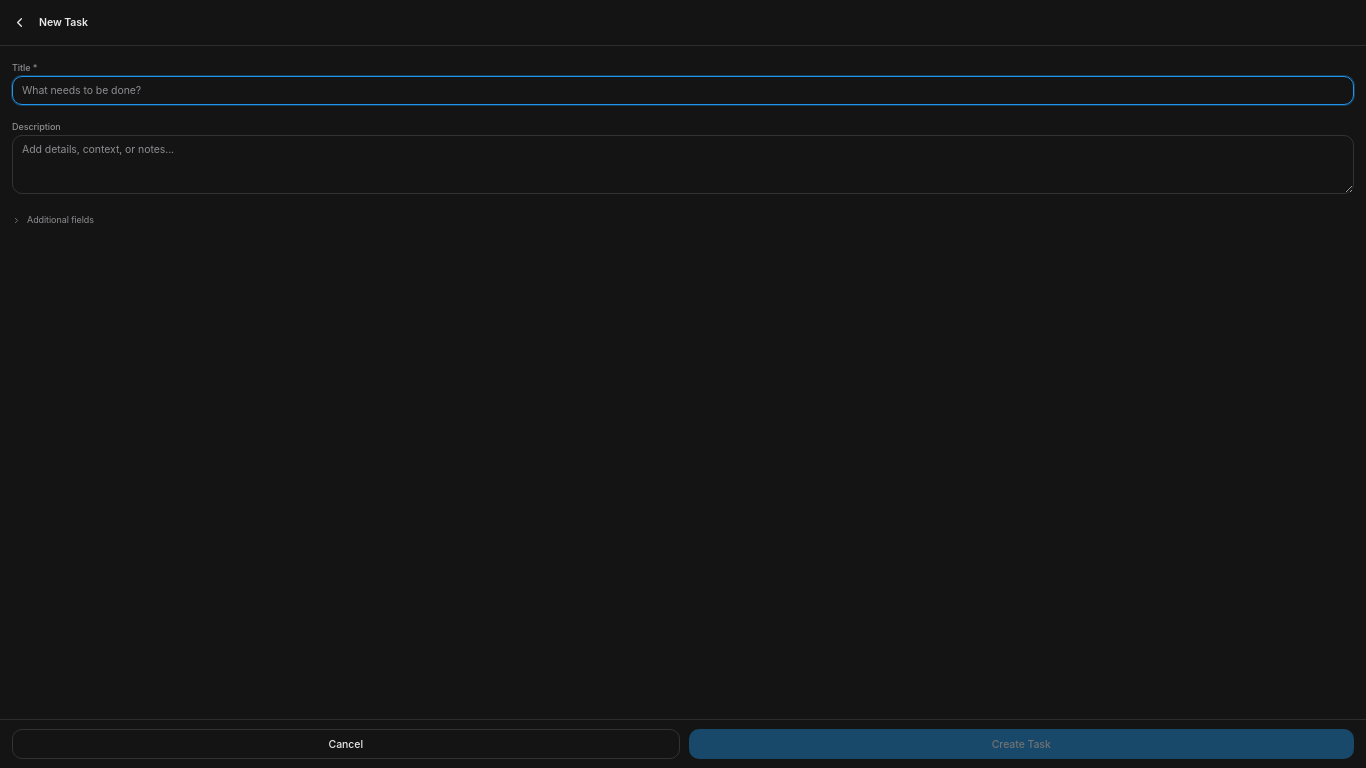
Scenario: TaskFormPage — Create mode › shows error when createTask fails
Type "Test" into the field with placeholder "What needs to be done?".
click(683, 90); type("Test")  # box [12,76,1354,105]
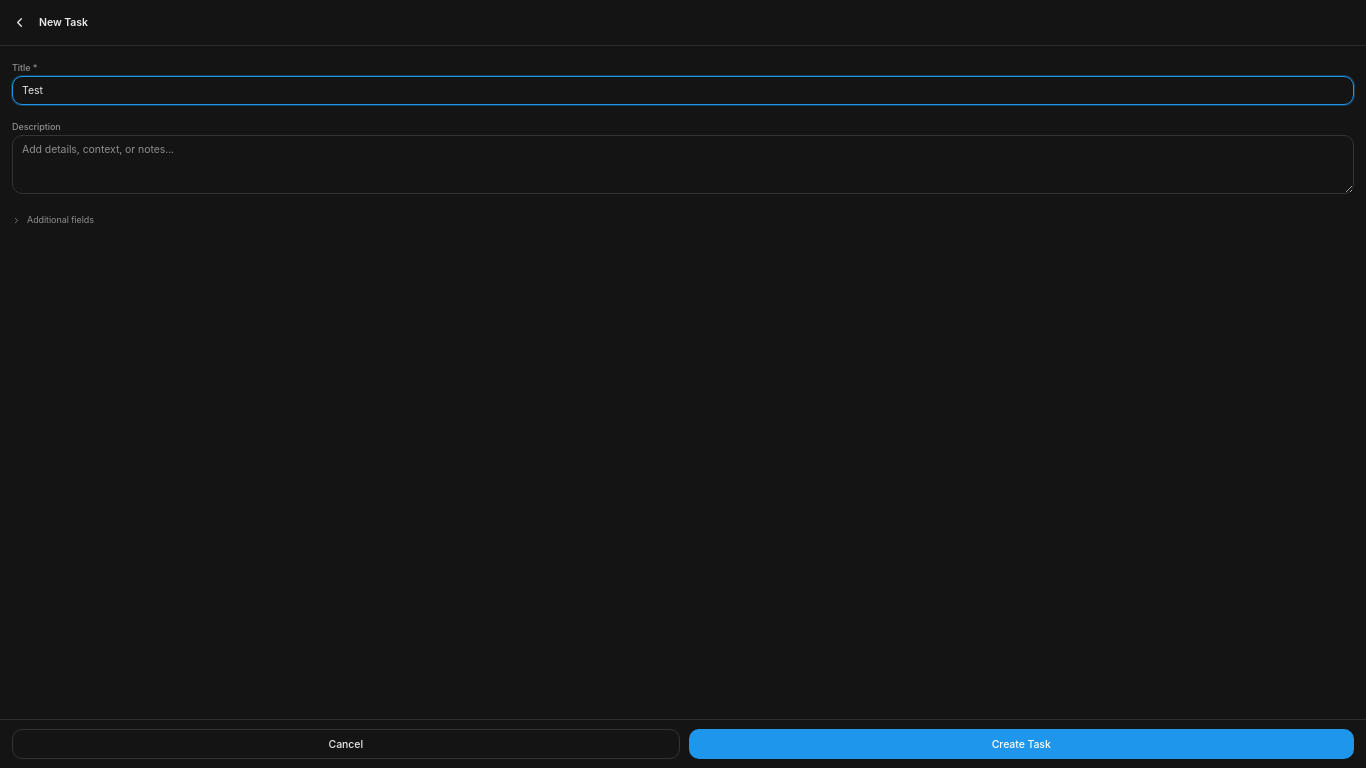
Click the button "Create Task".
click(1021, 744)  # box [688,729,1354,759]
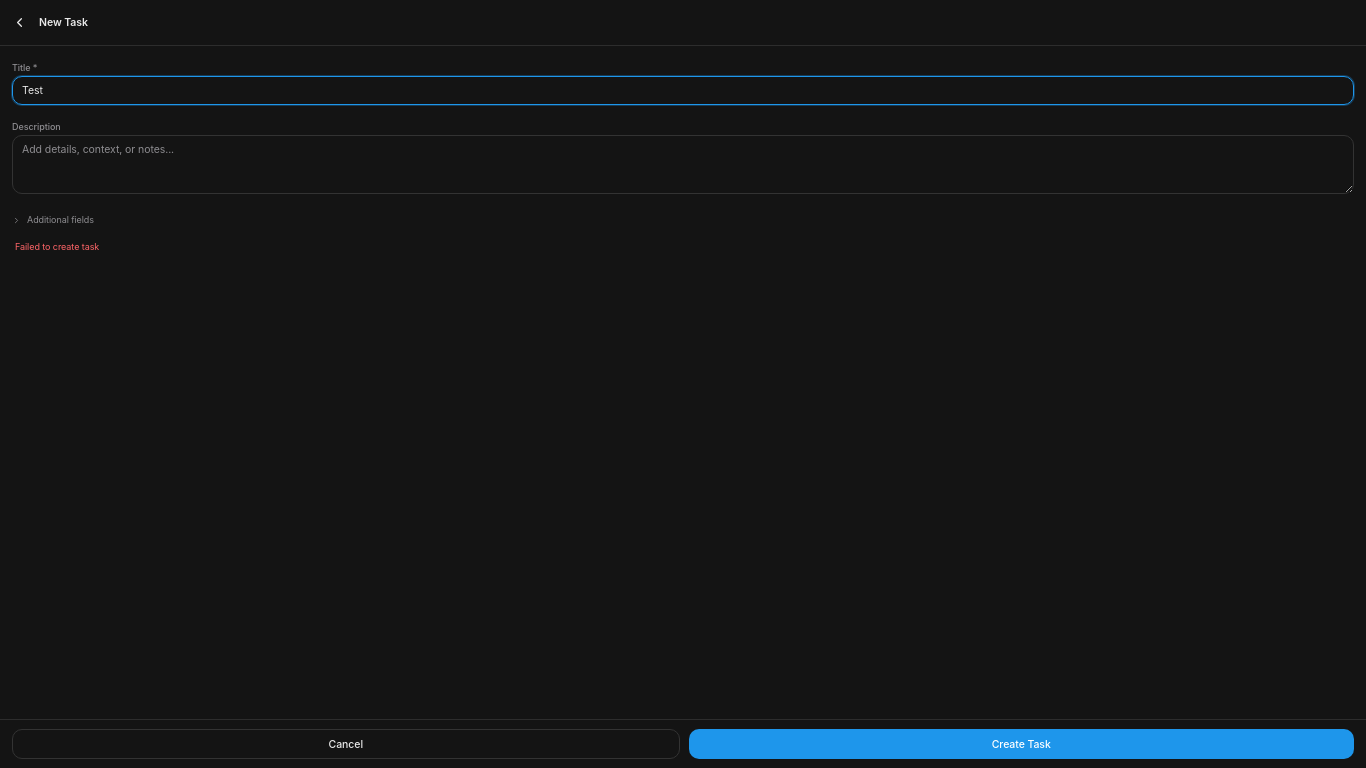
Now the text "Failed to create task" is shown, box [15,241,99,252]
